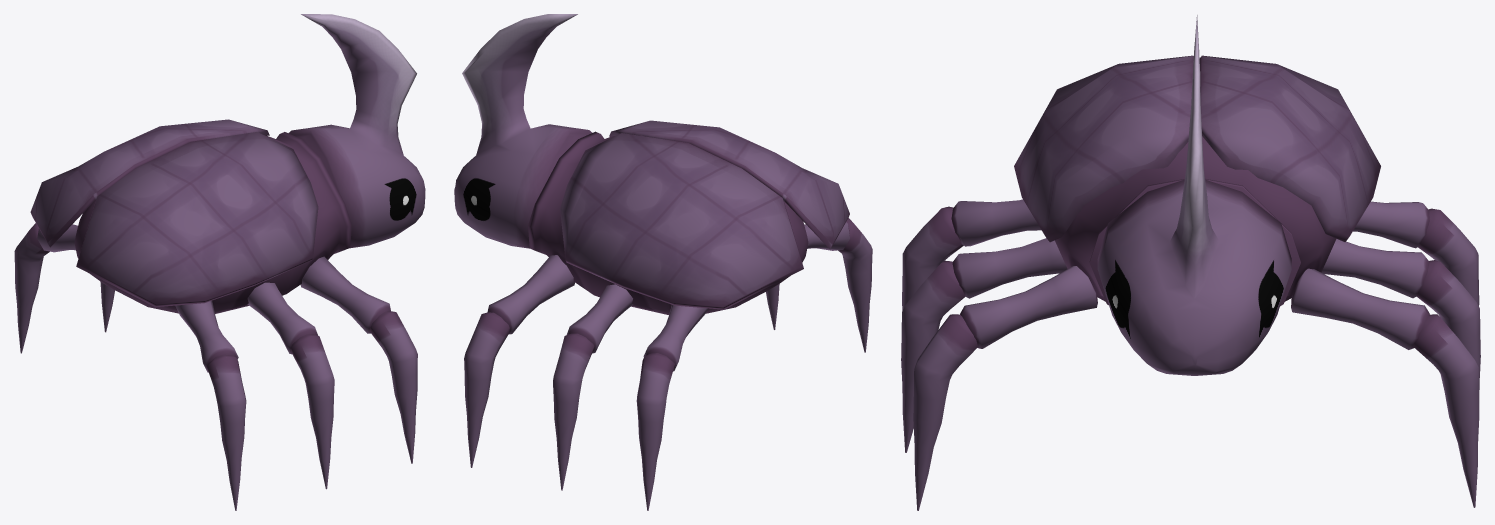
File: Bug(1).fbx
3 views of the same model, side by side, from view 1: azimuth 30°, elevation 25°; view 2: azimuth 150°, elevation 25°; view 3: azimuth 270°, elevation 25° (orthographic). The views are drawn at different scales.
Parts seen in each view (by area): view 1: Wing1, Head, Wing1.001, MainBody, Leg3D.001, Leg2D.001, Leg1D.001, Leg3.001, Leg3D, Leg2.001, Leg1.001, Leg3; view 2: Wing1.001, Head, Wing1, MainBody, Leg1D, Leg3D, Leg2D, Leg1, Leg1D.001, Leg2, Leg3, Leg1.001; view 3: Head, Wing1.001, Wing1, MainBody, Leg3D.001, Leg1, Leg1D, Leg3.001, Leg2D.001, Leg2.001, Leg2, Leg2D (+4 smaller).
Boxes of the visible parts, x1,y1,x2,y2 form: Wing1: [76, 132, 318, 307]; Head: [288, 14, 425, 248]; Wing1.001: [30, 119, 269, 247]; MainBody: [74, 132, 351, 313]; Leg3D.001: [369, 311, 417, 463]; Leg2D.001: [290, 334, 334, 489]; Leg1D.001: [206, 354, 246, 510]; Leg3.001: [300, 256, 390, 333]; Leg3D: [14, 223, 49, 353]; Leg2.001: [247, 282, 317, 354]; Leg1.001: [175, 300, 238, 372]; Leg3: [37, 224, 77, 252]; Wing1.001: [560, 133, 803, 309]; Head: [454, 14, 592, 248]; Wing1: [609, 120, 849, 249]; MainBody: [528, 131, 808, 314]; Leg1D: [464, 312, 509, 467]; Leg3D: [636, 353, 674, 510]; Leg2D: [553, 333, 594, 490]; Leg1: [487, 255, 574, 334]; Leg1D.001: [838, 217, 872, 352]; Leg2: [566, 284, 633, 353]; Leg3: [643, 305, 707, 371]; Leg1.001: [804, 222, 849, 250]; Head: [1097, 15, 1291, 375]; Wing1.001: [1199, 55, 1380, 241]; Wing1: [1014, 55, 1193, 242]; MainBody: [1055, 136, 1336, 306]; Leg3D.001: [913, 314, 977, 510]; Leg1: [1291, 268, 1429, 349]; Leg1D: [1413, 314, 1479, 507]; Leg3.001: [960, 266, 1097, 348]; Leg2D.001: [901, 260, 964, 452]; Leg2.001: [952, 238, 1067, 298]; Leg2: [1321, 239, 1429, 298]; Leg2D: [1416, 260, 1480, 403].
Size of the model in its own units: 150 by 151 by 161.
17 materials, 17 textured.
